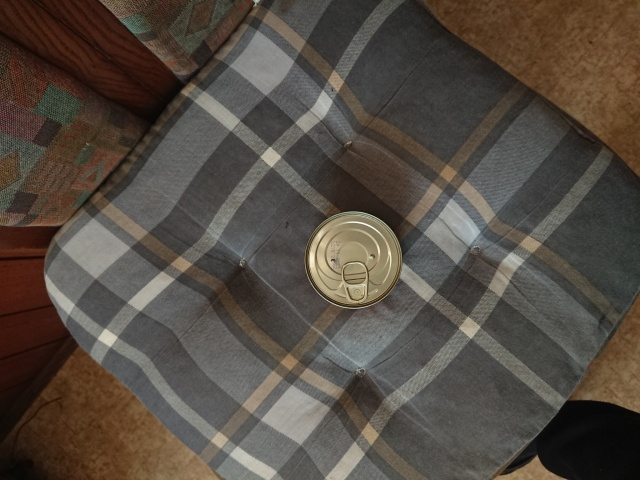Podravka Luncheon Meat 150g: (302, 208, 405, 312)
